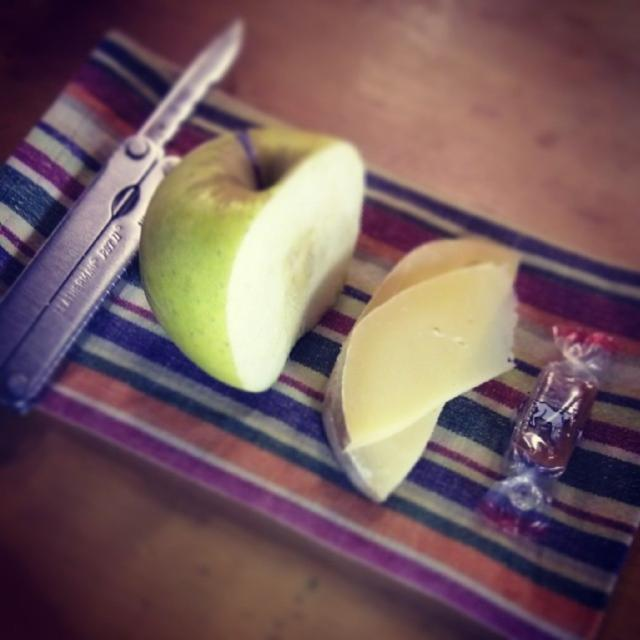Healty Apple: (136, 120, 363, 412)
